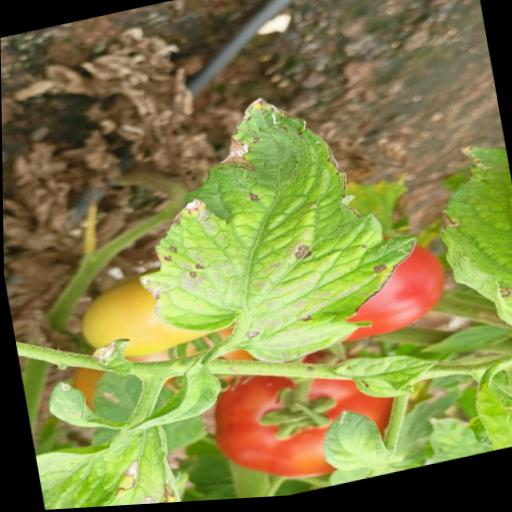Early Blight: (110, 70, 435, 394)
